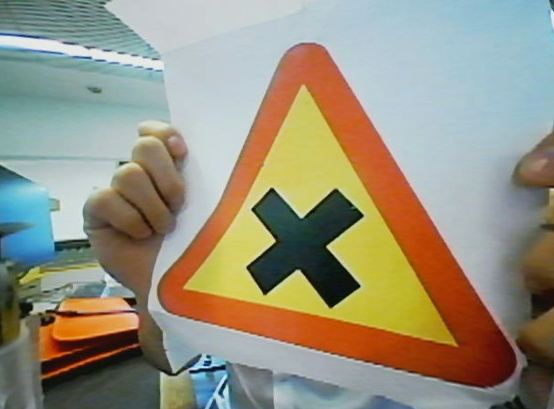junction: (148, 44, 522, 389)
